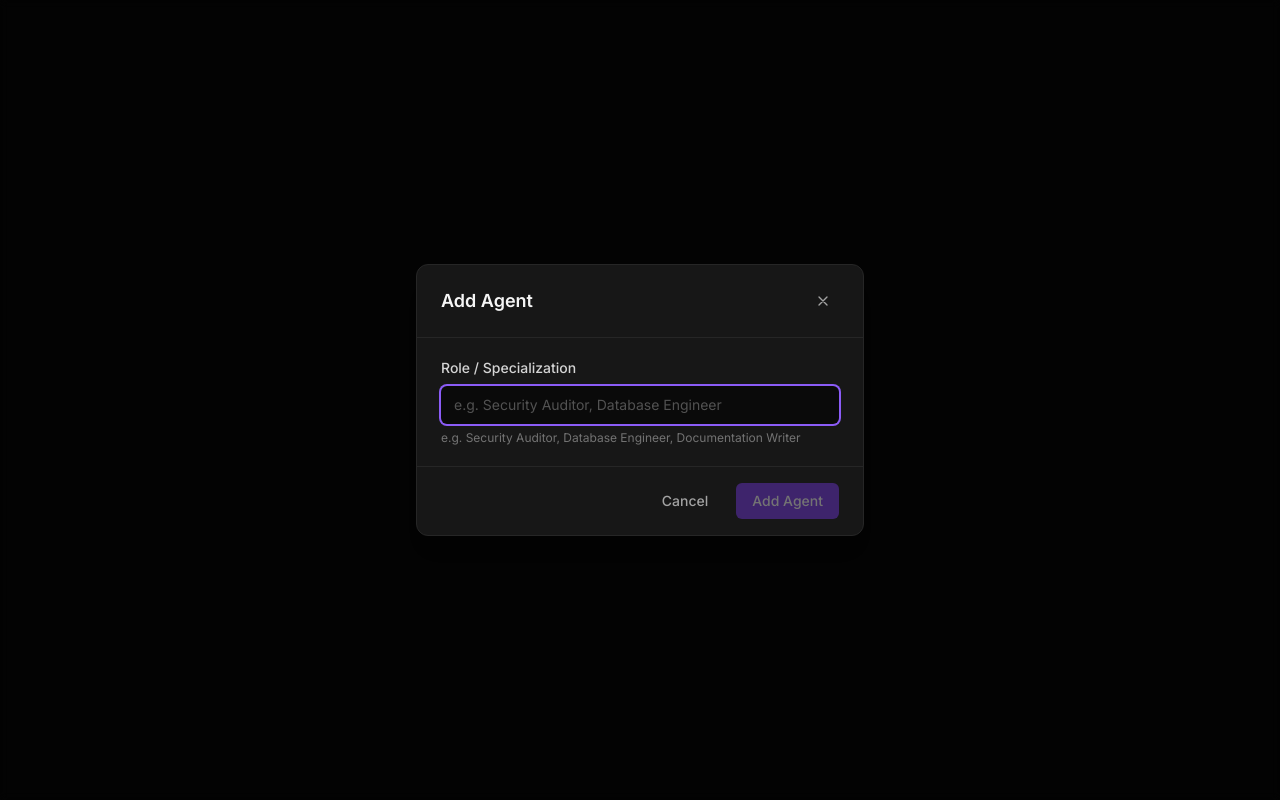
Test case: AddAgentModal › clears error message when user starts typing after an error
Note: Submit a valid value to get a server error shown
In the field: (640, 405) left=441, top=386, right=839, bottom=424, type "Valid Role"
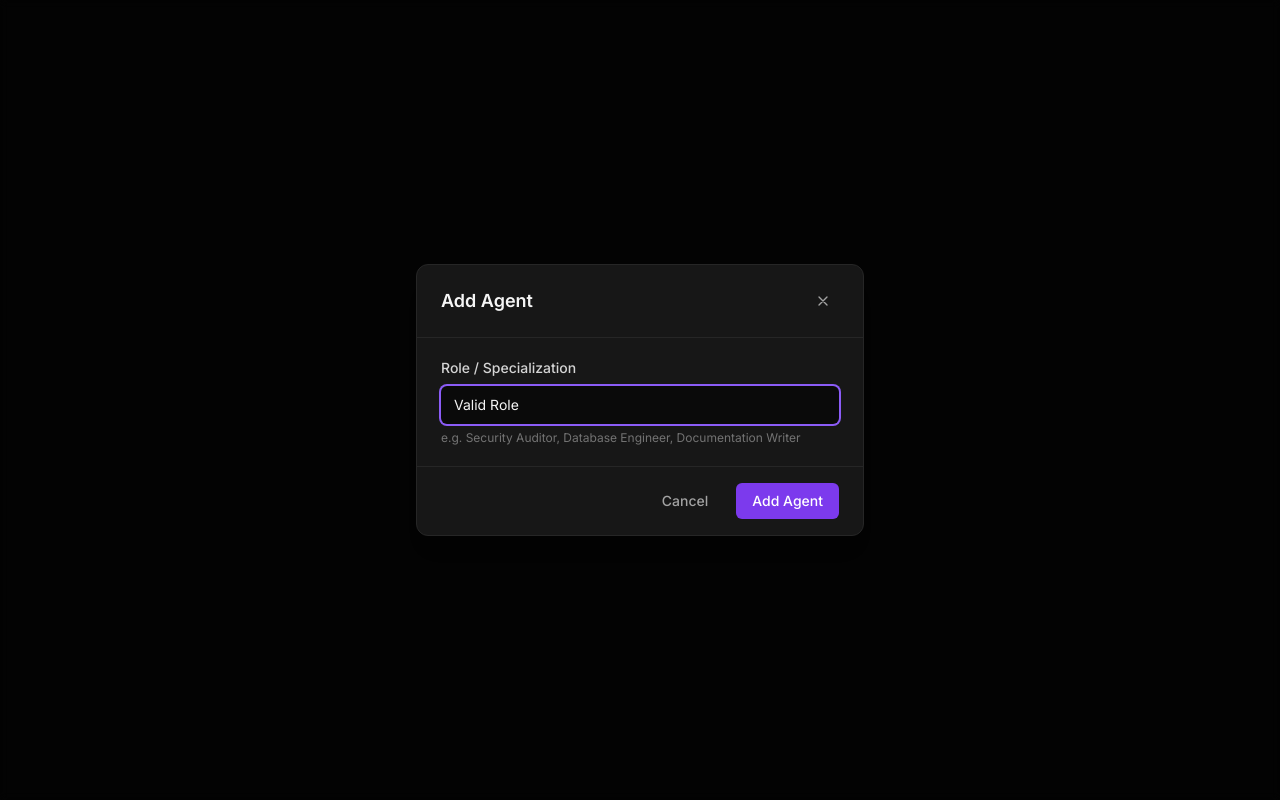
Click the button "Add Agent": (788, 501) left=736, top=483, right=839, bottom=519
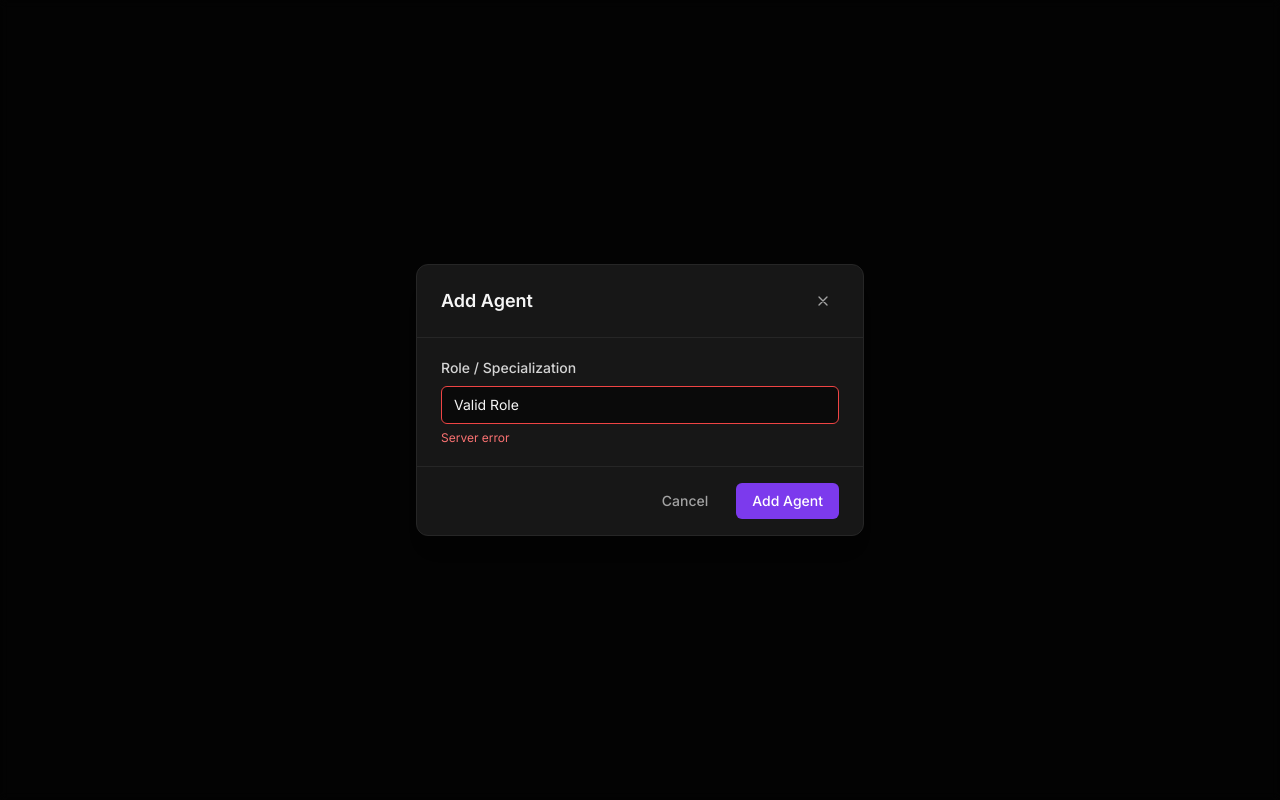
Expected: the text "Server error" is shown, left=441, top=430, right=510, bottom=445
Note: Typing should clear the error
In the field: (640, 405) left=441, top=386, right=839, bottom=424, type "X"
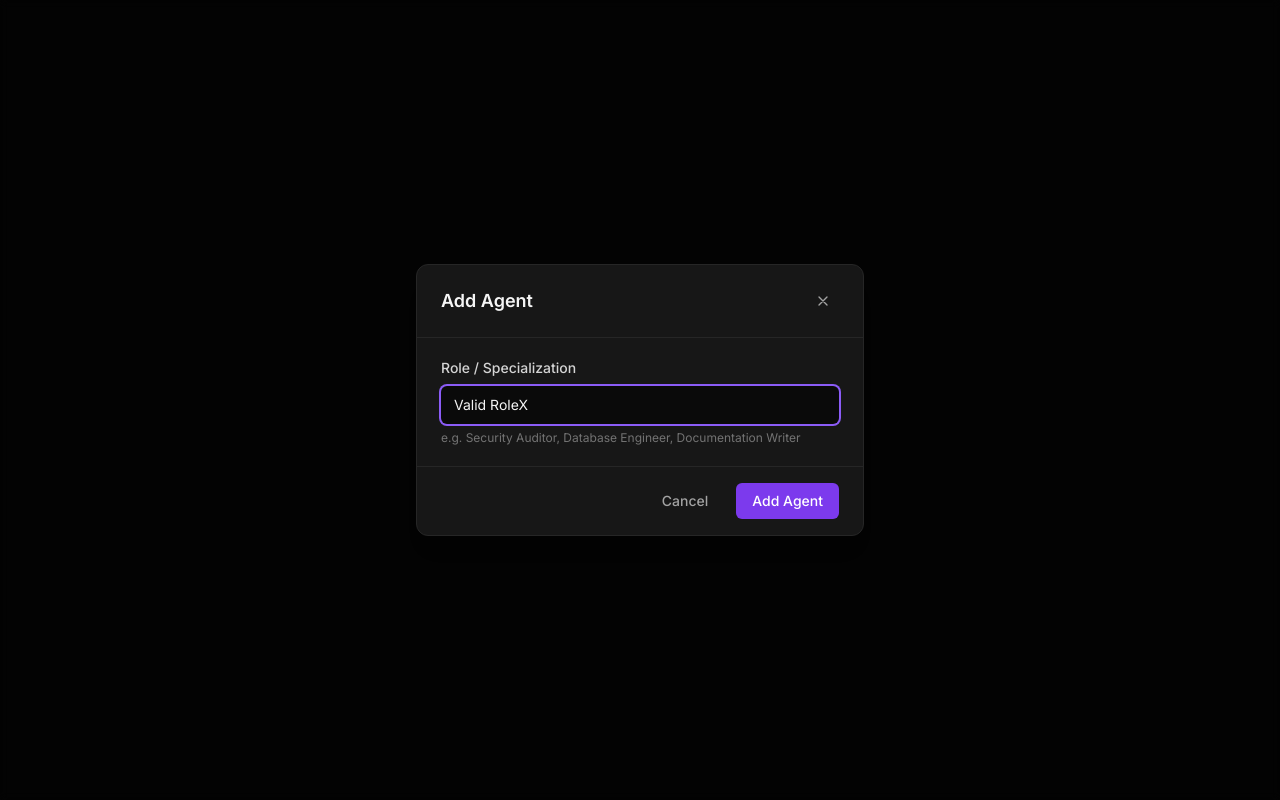
Expected: the text "Server error" is gone
